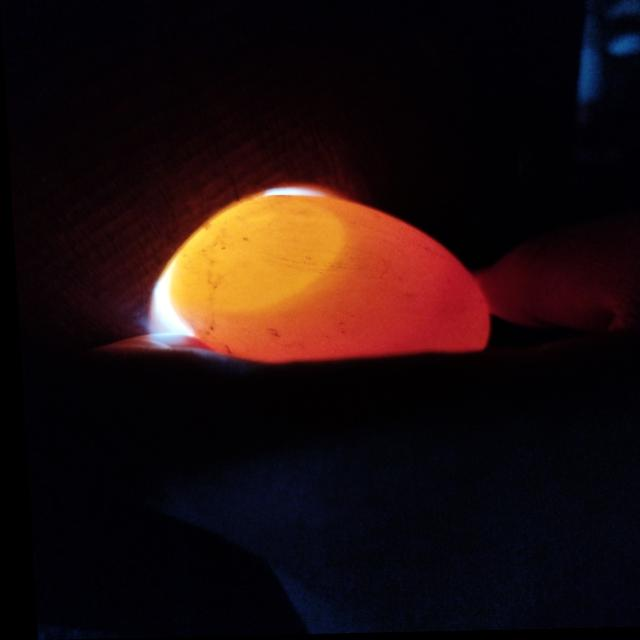Camara de Ar: (167, 196, 340, 311)
